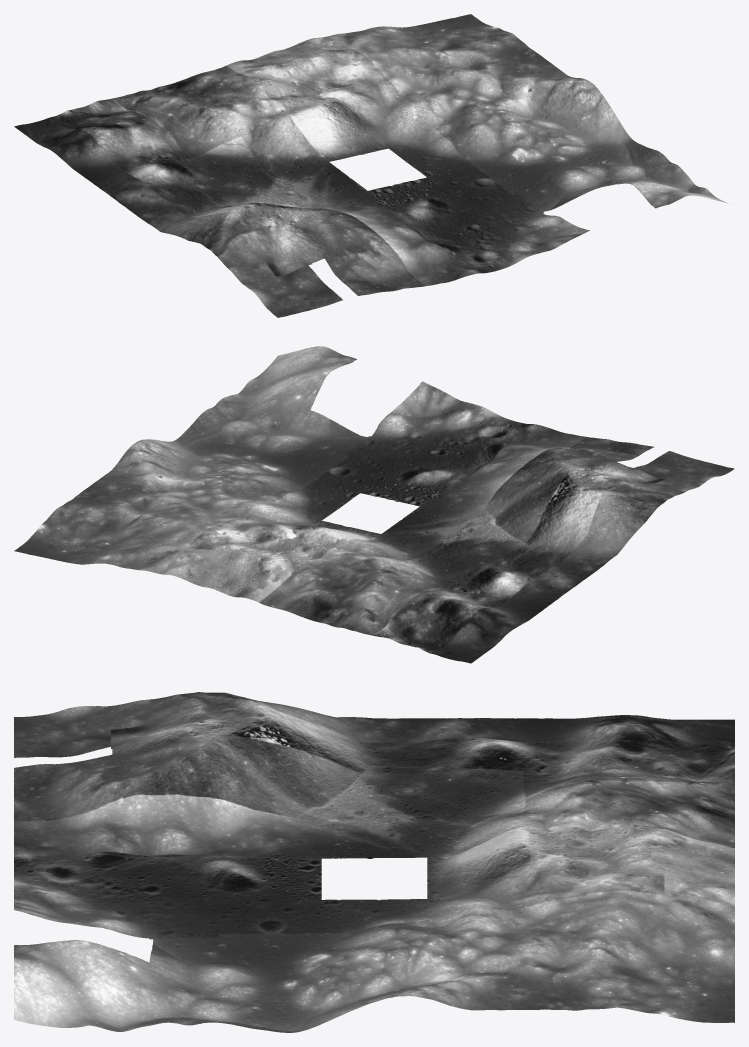
File: far-low.glb
3 views of the same model, one above another, from view 1: azimuth 30°, elevation 25°; view 2: azimuth 150°, elevation 25°; view 3: azimuth 270°, elevation 25° (orthographic). The views are drawn at different scales.
Visible parts, largest first — view 1: far; view 2: far; view 3: far.
Part boxes in pixels (left/top/right/bottom): far: left=14, top=14, right=728, bottom=317; far: left=14, top=346, right=734, bottom=663; far: left=14, top=692, right=734, bottom=1032.
Size of the model in its own units: 31992 by 2826 by 31992.
1 material, 1 textured.
